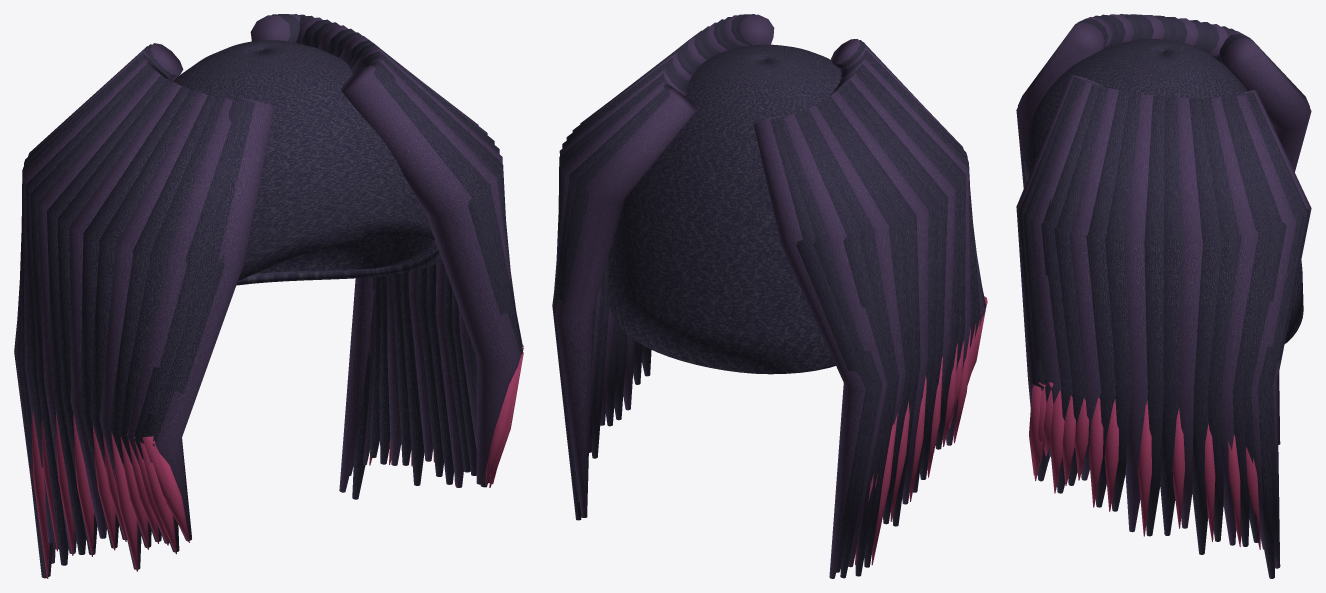
3 views of the same model, side by side, from view 1: azimuth 30°, elevation 25°; view 2: azimuth 150°, elevation 25°; view 3: azimuth 270°, elevation 25° (orthographic). The views are drawn at different scales.
Parts seen in each view (by area): view 1: kpop-crimson-hair; view 2: kpop-crimson-hair; view 3: kpop-crimson-hair.
Boxes of the visible parts, x1,y1,x2,y2 form: kpop-crimson-hair: (14, 14, 523, 578); kpop-crimson-hair: (552, 14, 987, 578); kpop-crimson-hair: (1016, 14, 1311, 578).
Bounding box in the file's own units: 1.6 × 1.98 × 1.15.
3 materials, 3 textured.
